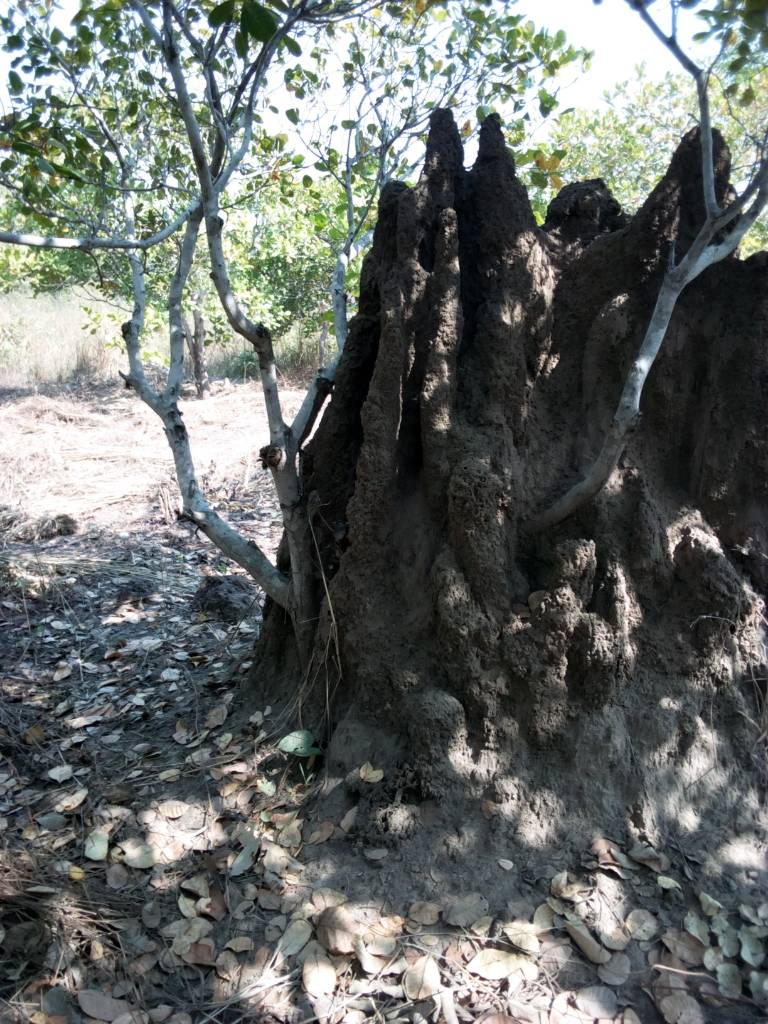Termites: (361, 177, 521, 875), (554, 539, 749, 802)
